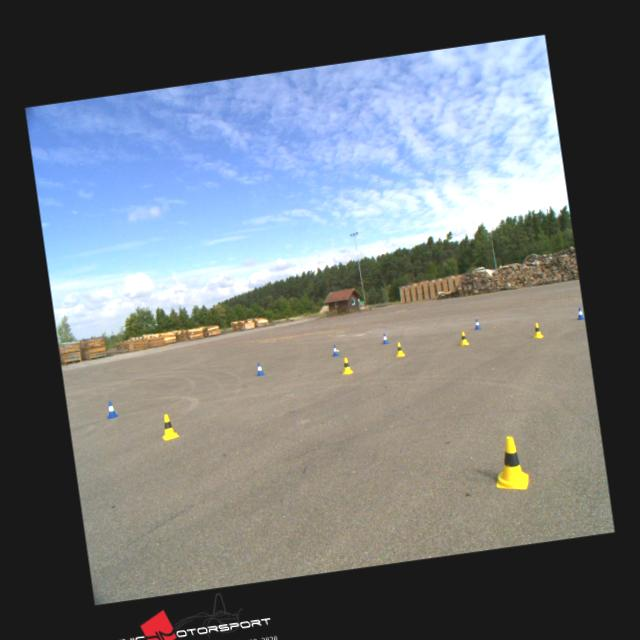blue_cone: (106, 399, 118, 418), (254, 362, 264, 376), (576, 306, 584, 320), (381, 332, 389, 344), (331, 344, 339, 356), (472, 318, 480, 329)
yellow_cone: (490, 434, 530, 492), (159, 412, 179, 440), (340, 356, 352, 374), (531, 322, 543, 338), (458, 331, 469, 346), (394, 342, 405, 356)
